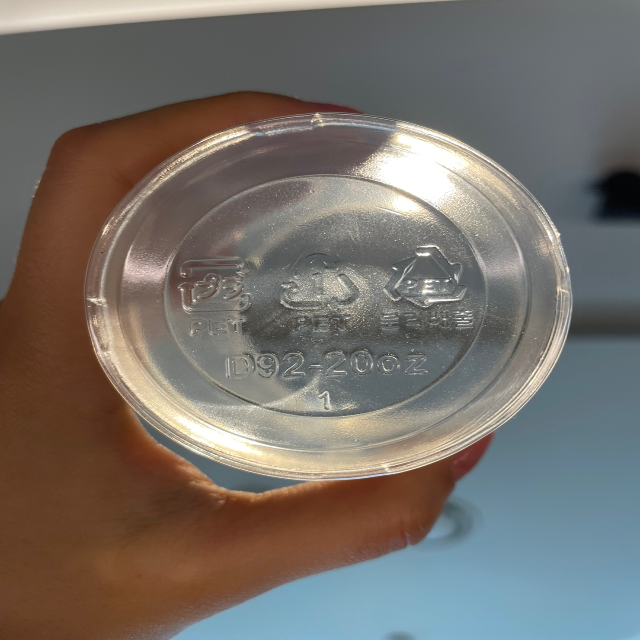pet: (375, 239, 478, 330), (277, 245, 363, 339), (172, 244, 254, 342)
